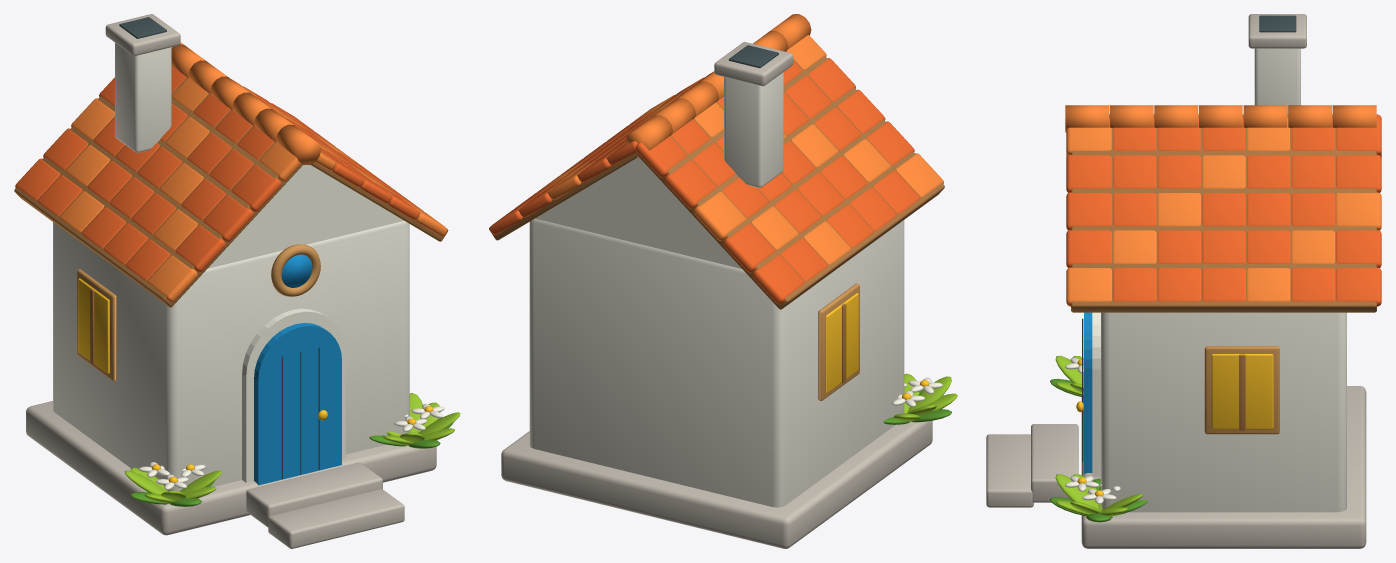
The model's file is house.glb.
The picture shows the model from 3 angles, left to right: view 1: azimuth 30°, elevation 25°; view 2: azimuth 150°, elevation 25°; view 3: azimuth 270°, elevation 25°; orthographic projection. The views are drawn at different scales.
Visible parts, largest first — view 1: house; view 2: house; view 3: house.
Part boxes in pixels (left/top/right/bottom): house: left=14, top=14, right=460, bottom=548; house: left=489, top=14, right=957, bottom=548; house: left=986, top=14, right=1381, bottom=548.
Size of the model in its own units: 2.46 by 3.08 by 2.57.
